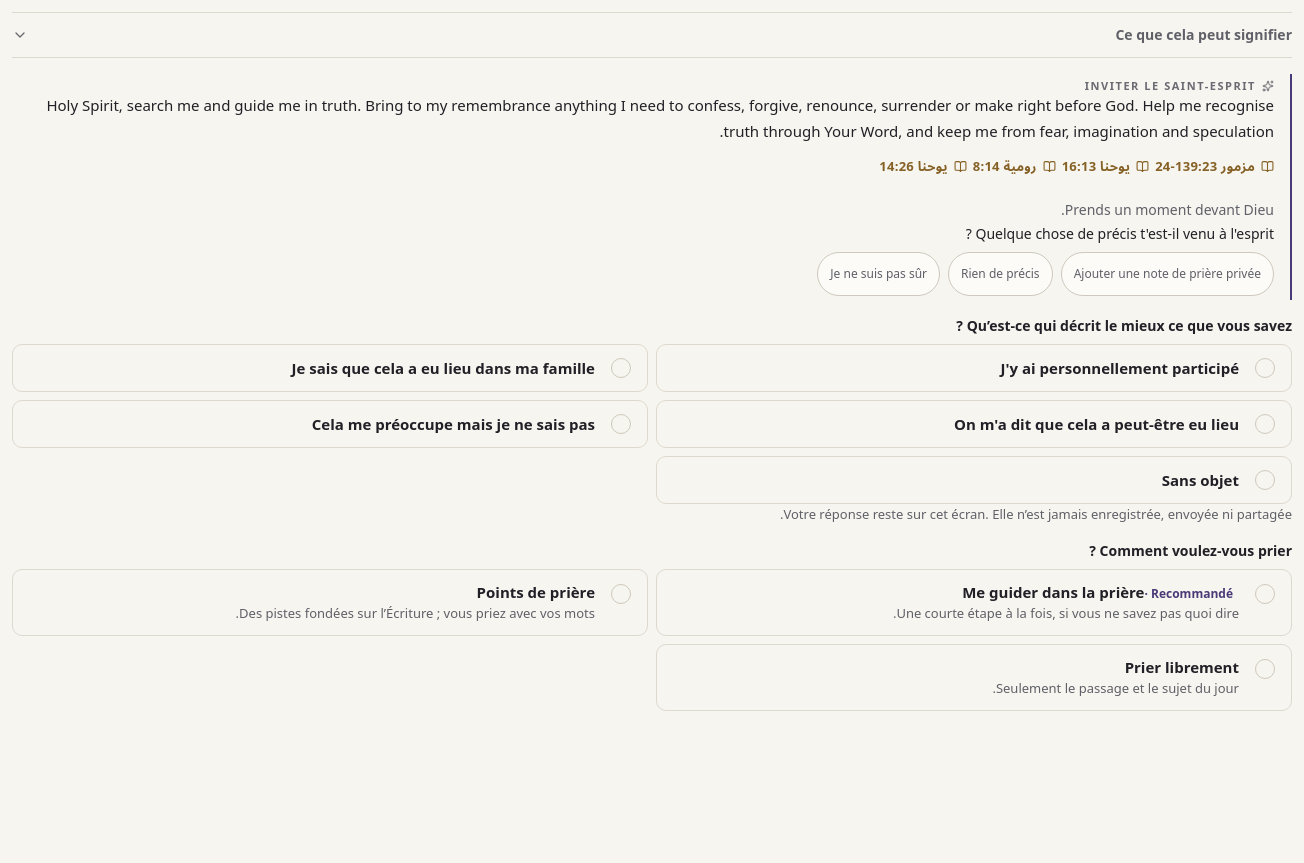
the freedom plan day in a real RTL browser › keeps the definition and examples behind a working disclosure
This screenshot has width=1304, height=863.
Click the button "Ce que cela peut signifier" at (1204, 34), box [12, 13, 1292, 57]
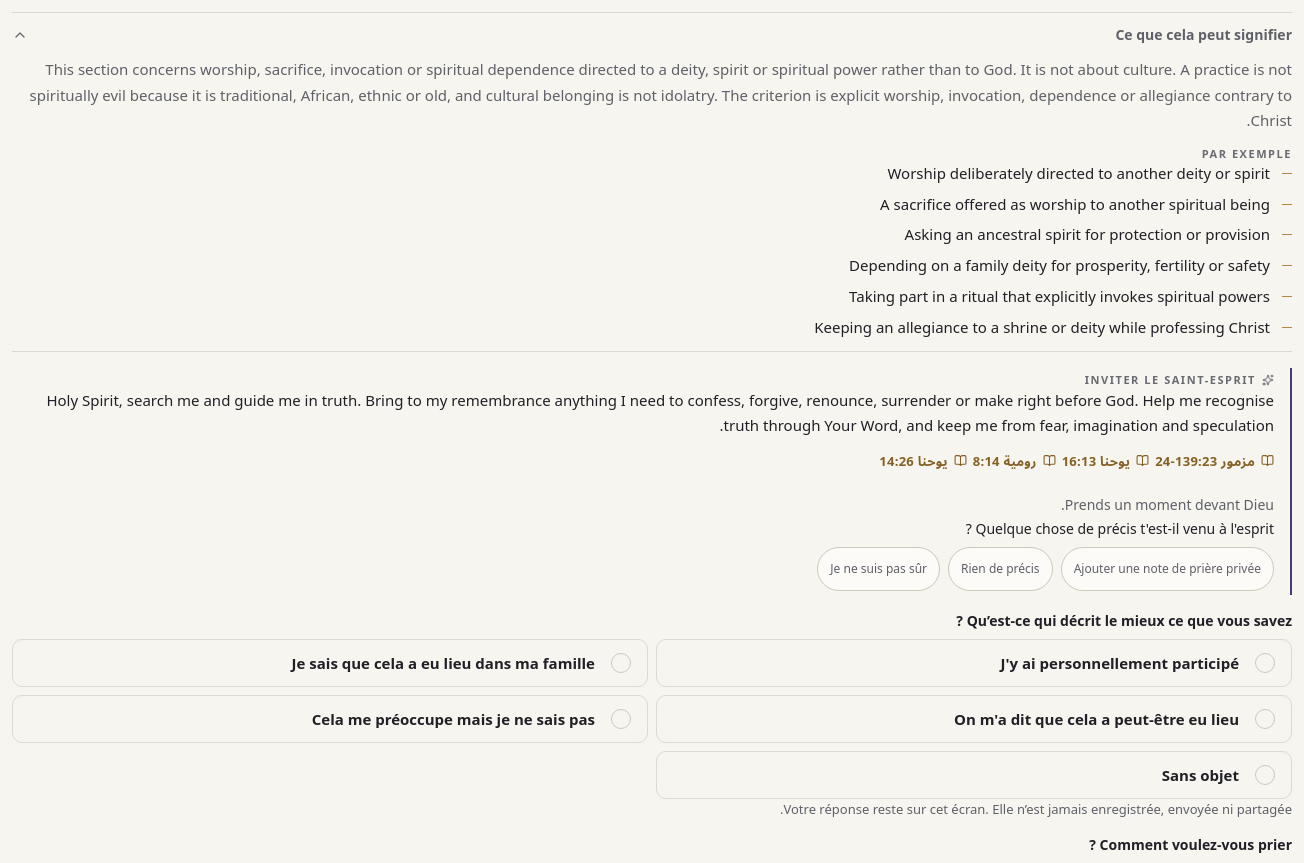
Expected: the button "Ce que cela peut signifier" is expanded, [12, 13, 1292, 57]
Expected: the heading "Par exemple" is shown, [1202, 146, 1292, 160]
